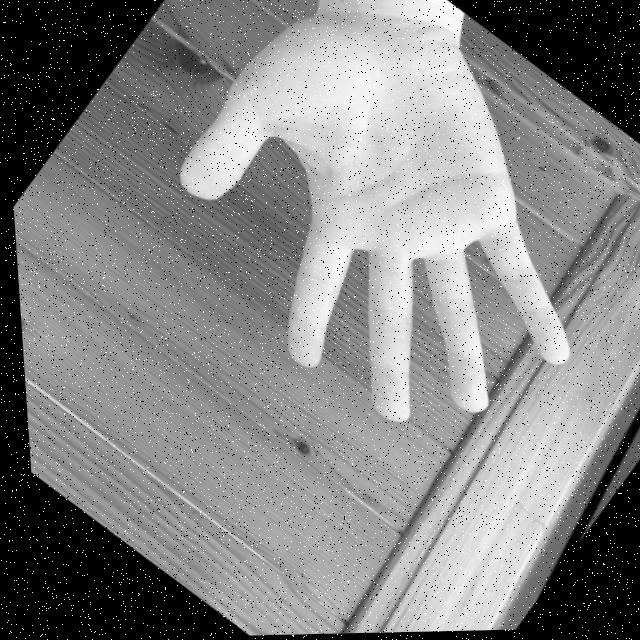hand: (101, 0, 640, 504)
